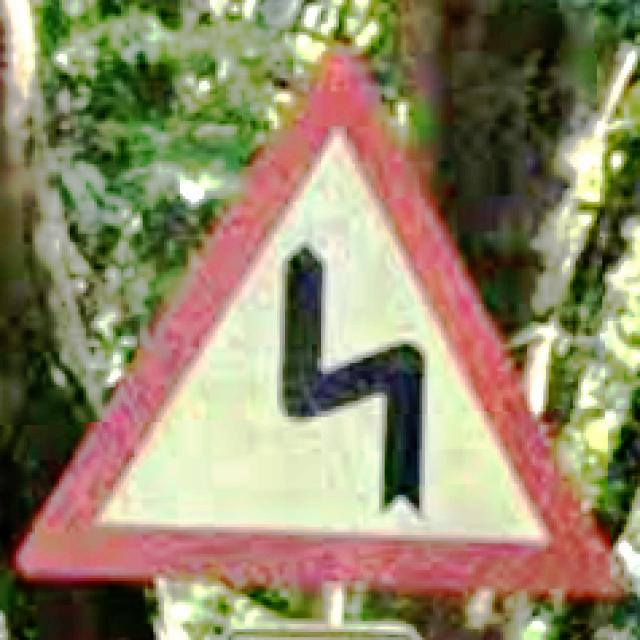doublebendleft: (19, 54, 624, 597)
